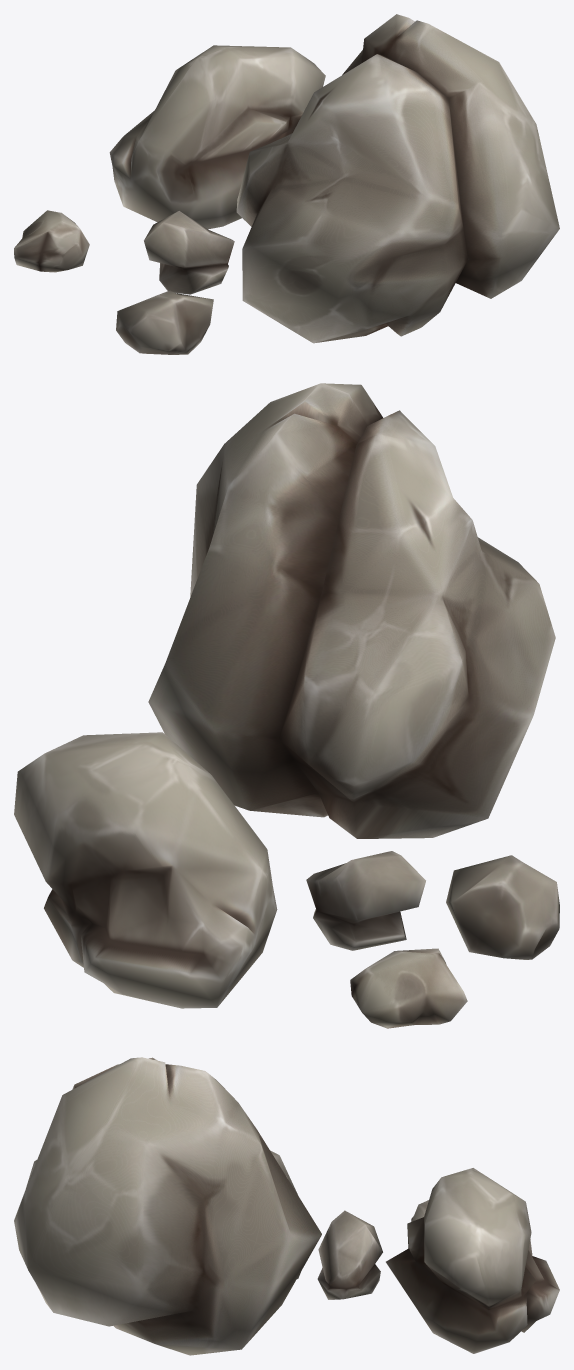
File: rocks.FBX
The picture shows the model from 3 angles, top to bottom: view 1: azimuth 30°, elevation 25°; view 2: azimuth 150°, elevation 25°; view 3: azimuth 270°, elevation 25°; orthographic projection. The views are drawn at different scales.
Visible parts, largest first — view 1: rock_big, rock_medium, rock_small_02, rock_small_01, rock_small_03; view 2: rock_big, rock_medium, rock_small_01, rock_small_02, rock_small_03; view 3: rock_big, rock_medium, rock_small_02.
Part boxes in pixels (box(x1,y1,x2,y2)): rock_big: box(236, 14, 559, 343); rock_medium: box(109, 45, 325, 229); rock_small_02: box(144, 211, 234, 294); rock_small_01: box(116, 290, 213, 354); rock_small_03: box(14, 210, 89, 272); rock_big: box(148, 383, 555, 838); rock_medium: box(14, 732, 277, 1008); rock_small_01: box(446, 855, 559, 959); rock_small_02: box(306, 851, 425, 950); rock_small_03: box(350, 948, 467, 1028); rock_big: box(14, 1057, 321, 1355); rock_medium: box(386, 1168, 559, 1353); rock_small_02: box(317, 1210, 382, 1299).
Size of the model in its own units: 51.83 by 45.07 by 69.55.
